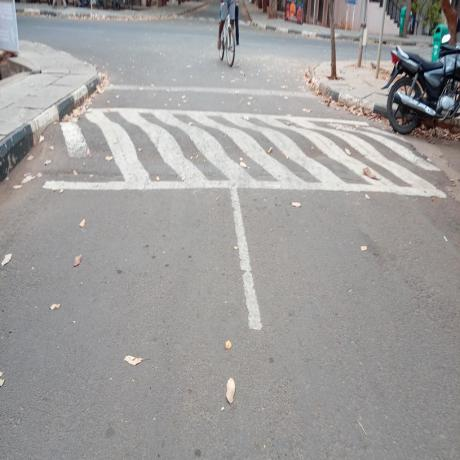Speed Bump: (29, 108, 443, 187)
